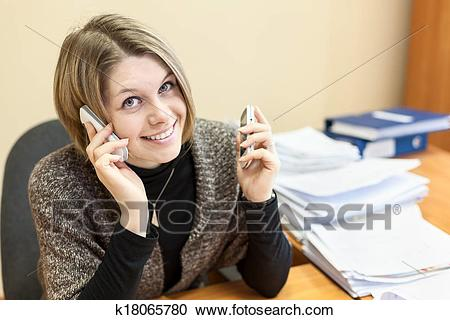phone: (77, 102, 132, 168)
talk: (73, 69, 188, 206)
